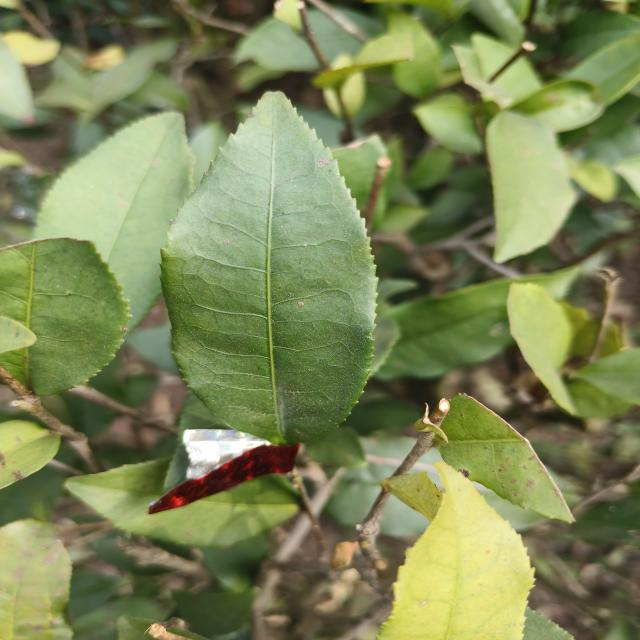Leaf: (161, 92, 376, 444), (35, 112, 193, 329), (377, 462, 533, 640), (65, 458, 298, 547), (0, 238, 129, 396), (439, 394, 574, 522), (376, 279, 515, 380), (486, 111, 575, 263), (0, 519, 72, 640), (91, 40, 177, 116), (566, 32, 640, 104), (510, 80, 604, 132), (234, 17, 319, 71), (388, 12, 440, 98), (413, 93, 482, 154), (0, 420, 60, 489), (174, 587, 257, 635), (573, 348, 640, 404), (69, 566, 127, 627), (0, 37, 34, 122), (344, 398, 420, 435), (309, 9, 361, 59), (305, 427, 365, 468), (567, 156, 617, 202), (496, 56, 542, 102), (472, 34, 513, 77), (523, 269, 576, 299), (341, 9, 380, 35)
